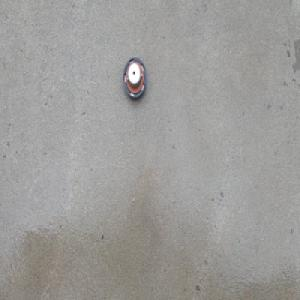FuelCap: (122, 55, 147, 99)
